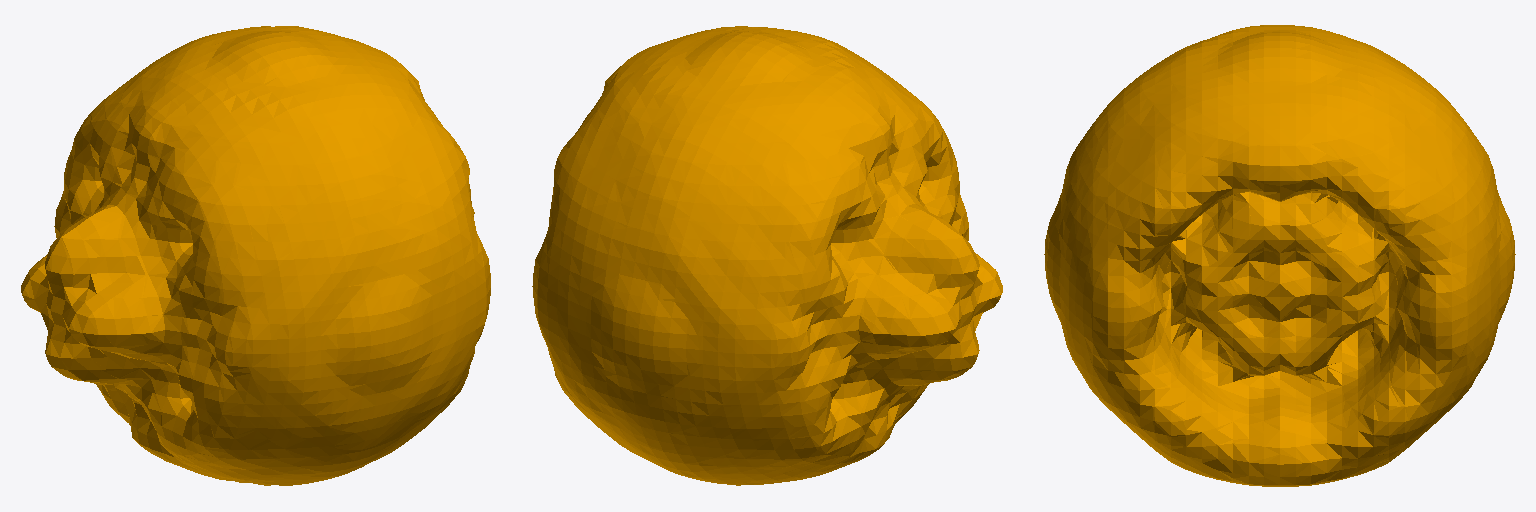
URDF robot description (C17_3):
<?xml version="1.0"?>
<robot name="C17_3">
  <link name="base_link">
    <visual>
      <geometry>
        <mesh filename="../../../../meshes/egad/train/C17_3.obj" />
      </geometry>
    </visual>
  </link>
</robot>

--- Render facts (derived) ---
Views: 3 orthographic renders of the robot side by side, from view 1: azimuth 30°, elevation 25°; view 2: azimuth 150°, elevation 25°; view 3: azimuth 270°, elevation 25°.
Model C17_3 with 1 links and 0 joints (none), rooted at base_link, posed all joints at 0.
Links seen in each view (by area): view 1: base_link; view 2: base_link; view 3: base_link.
Boxes of the visible links, <box> form: base_link: <box>21,26,490,485</box>; base_link: <box>532,26,1002,485</box>; base_link: <box>1044,25,1515,486</box>.
Size in the robot's own frame: 0.06 by 0.0669 by 0.0669 metres.
Meshes: 1 distinct files referenced, 1 mesh visuals loaded (1 OBJ).